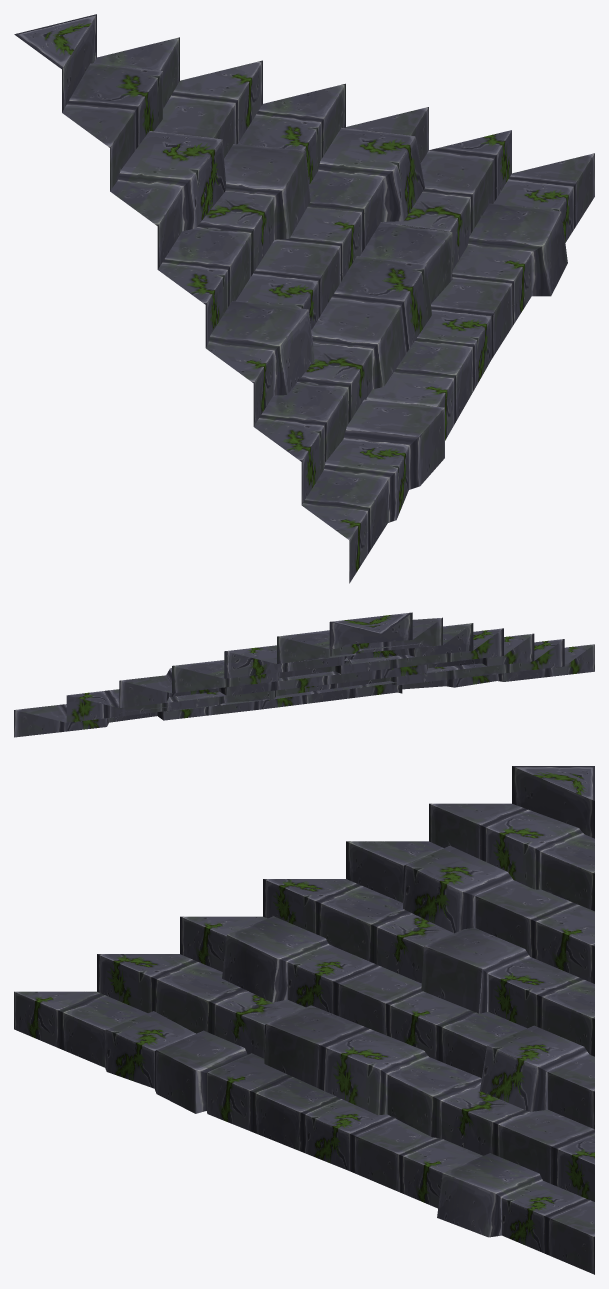
The model's file is MOD_Stairs_01_E_angle_convex_3.fbx.
The picture shows the model from 3 angles, top to bottom: view 1: azimuth 30°, elevation 25°; view 2: azimuth 150°, elevation 25°; view 3: azimuth 270°, elevation 25°; orthographic projection. The views are drawn at different scales.
Visible parts, largest first — view 1: MOD_Stairs_01_E_angle_convex_3; view 2: MOD_Stairs_01_E_angle_convex_3; view 3: MOD_Stairs_01_E_angle_convex_3.
Boxes of the visible parts, x1=… form: MOD_Stairs_01_E_angle_convex_3: x1=14, y1=14, x2=594, y2=583; MOD_Stairs_01_E_angle_convex_3: x1=14, y1=612, x2=594, y2=737; MOD_Stairs_01_E_angle_convex_3: x1=14, y1=766, x2=594, y2=1274.
Size of the model in its own units: 400 by 200 by 400.
